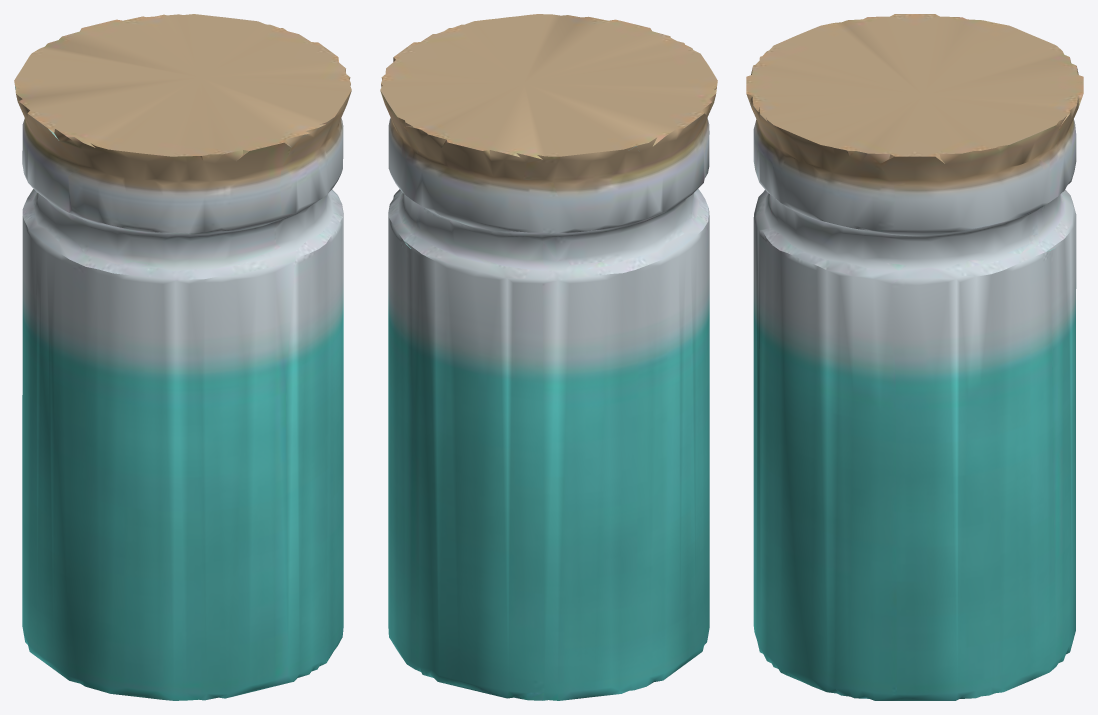
Rendered from potion_ward.glb.
3 renders of one model, left to right at view 1: azimuth 30°, elevation 25°; view 2: azimuth 150°, elevation 25°; view 3: azimuth 270°, elevation 25°, orthographic.
Visible parts, largest first — view 1: potion_ward; view 2: potion_ward; view 3: potion_ward.
Boxes of the visible parts, box(x1,y1,x2,y2) form: potion_ward: box(14, 14, 351, 700); potion_ward: box(380, 14, 717, 700); potion_ward: box(746, 14, 1083, 700).
Size of the model in its own units: 0.0555 by 0.1 by 0.0555.
1 material, 1 textured.
